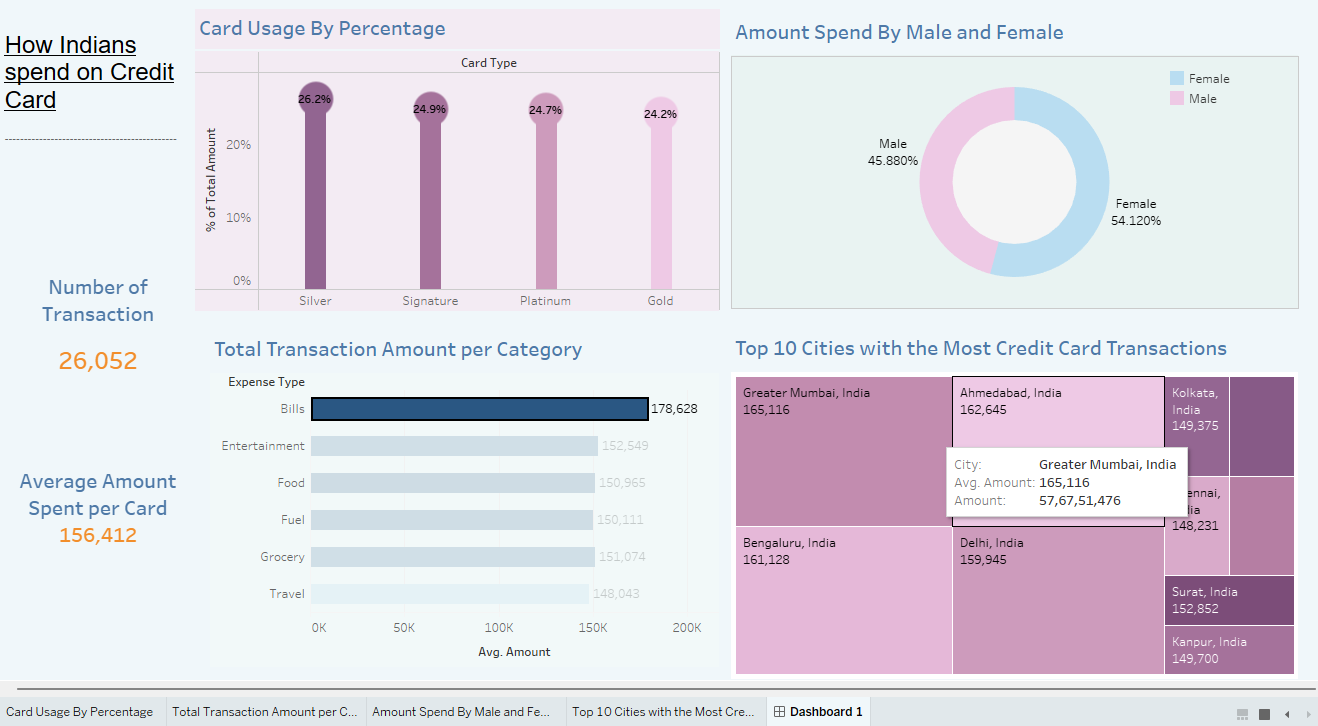

Layout of this report page (visuals, bound fields, positions):
{"tool":"tableau","page":{"name":"Dashboard 1","canvas":[1000,1000],"units":"permille","ordinal":0},"visuals":[{"type":"text","box":[1.4,10,127.1,246.7]},{"type":"worksheet","title":"Card Usage By Percentage","mark":"Automatic","rows":["Amount","Amount"],"cols":["Card Type"],"box":[139.3,15,375,443.3]},{"type":"worksheet","title":"Amount Spend By Male and Female","mark":"Pie","rows":["Calculation_1667457787506556929","Calculation_1667457787506556929"],"box":[522.1,20,405.7,435]},{"type":"legend","title":"Amount Spend By Male and Female","param":"[federated.024pr7x1wdc0mu1gvn2pa015qp7c].[none:Gender:nk]","box":[833.6,101.7,80.7,105]},{"type":"worksheet","title":"Sheet 5","mark":"Automatic","box":[2.1,336.7,135,283.3]},{"type":"worksheet","title":"Top 10 Cities with the Most Credit Card Transactions","mark":"Automatic","box":[522.1,485,405,513.3]},{"type":"worksheet","title":"Sheet 6","mark":"Automatic","box":[1.4,618.3,136.4,256.7]}]}

Visuals, with their boxes on the dashboard's canvas, which has no fixed pixel size, in thousandths of its width and height (x1, y1, x2, y2). These are canvas units, not pixel positions in the 1318x726 screenshot, which may show the page scaled, cropped or inside an application window:
text: BBox(1, 10, 128, 257)
"Card Usage By Percentage" worksheet: BBox(139, 15, 514, 458)
"Amount Spend By Male and Female" worksheet (Pie marks): BBox(522, 20, 928, 455)
"Amount Spend By Male and Female" legend: BBox(834, 102, 914, 207)
"Sheet 5" worksheet: BBox(2, 337, 137, 620)
"Top 10 Cities with the Most Credit Card Transactions" worksheet: BBox(522, 485, 927, 998)
"Sheet 6" worksheet: BBox(1, 618, 138, 875)
